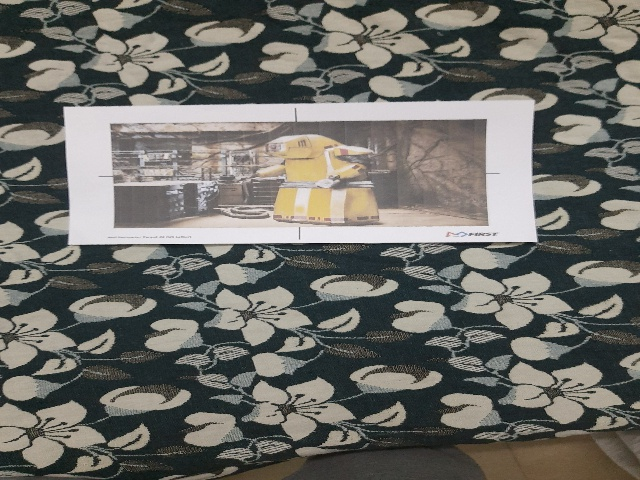rpt2: (76, 117, 526, 233)
